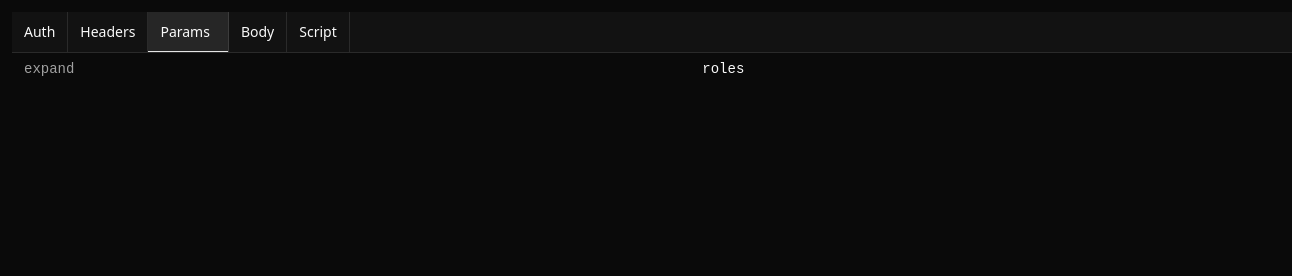
Test: RequestPane › should reveal the password when the show-password toggle is clicked
Click the tab "Auth". click: (40, 32)
box: x1=12 y1=12 x2=68 y2=52
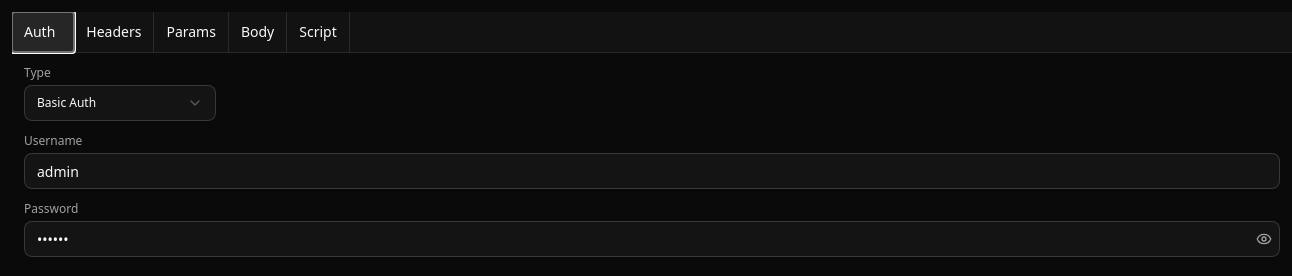
Click the button named "show password". click: (1264, 239)
box: x1=1248 y1=221 x2=1280 y2=257
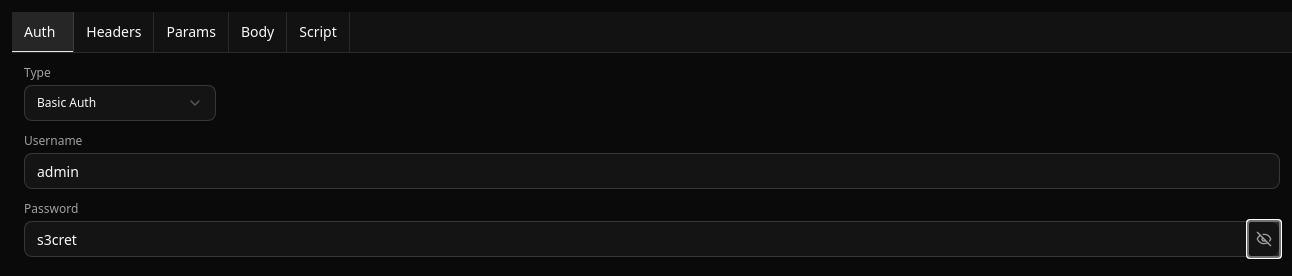
Now the field labelled "Password" shows its text, box x1=24 y1=221 x2=1280 y2=257
